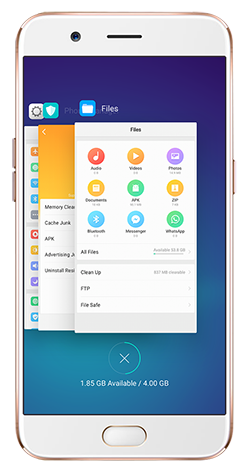Phone: (11, 10, 236, 462)
